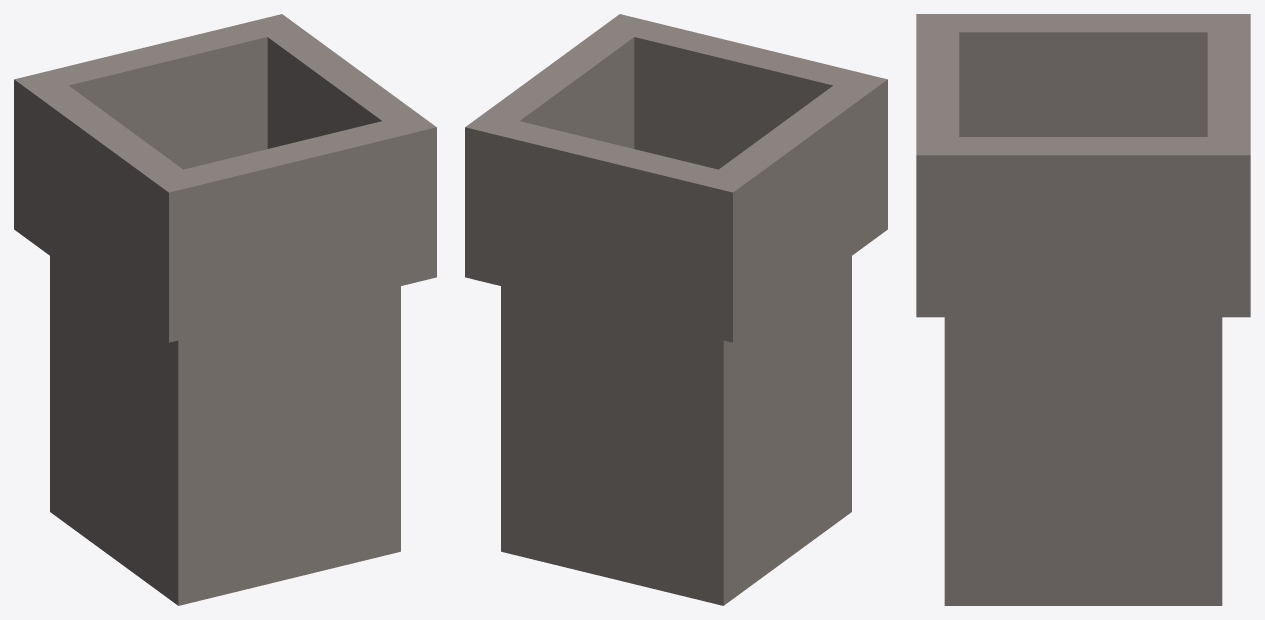
File: HousePart_07.fbx
3 renders of one model, left to right at view 1: azimuth 30°, elevation 25°; view 2: azimuth 150°, elevation 25°; view 3: azimuth 270°, elevation 25°, orthographic. The views are drawn at different scales.
Visible parts, largest first — view 1: HousePart_07; view 2: HousePart_07; view 3: HousePart_07.
Part boxes in pixels (x1=…): HousePart_07: x1=14, y1=14, x2=436, y2=605; HousePart_07: x1=465, y1=14, x2=887, y2=605; HousePart_07: x1=916, y1=14, x2=1250, y2=605.
Size of the model in its own units: 1.24 by 1.89 by 1.24.
